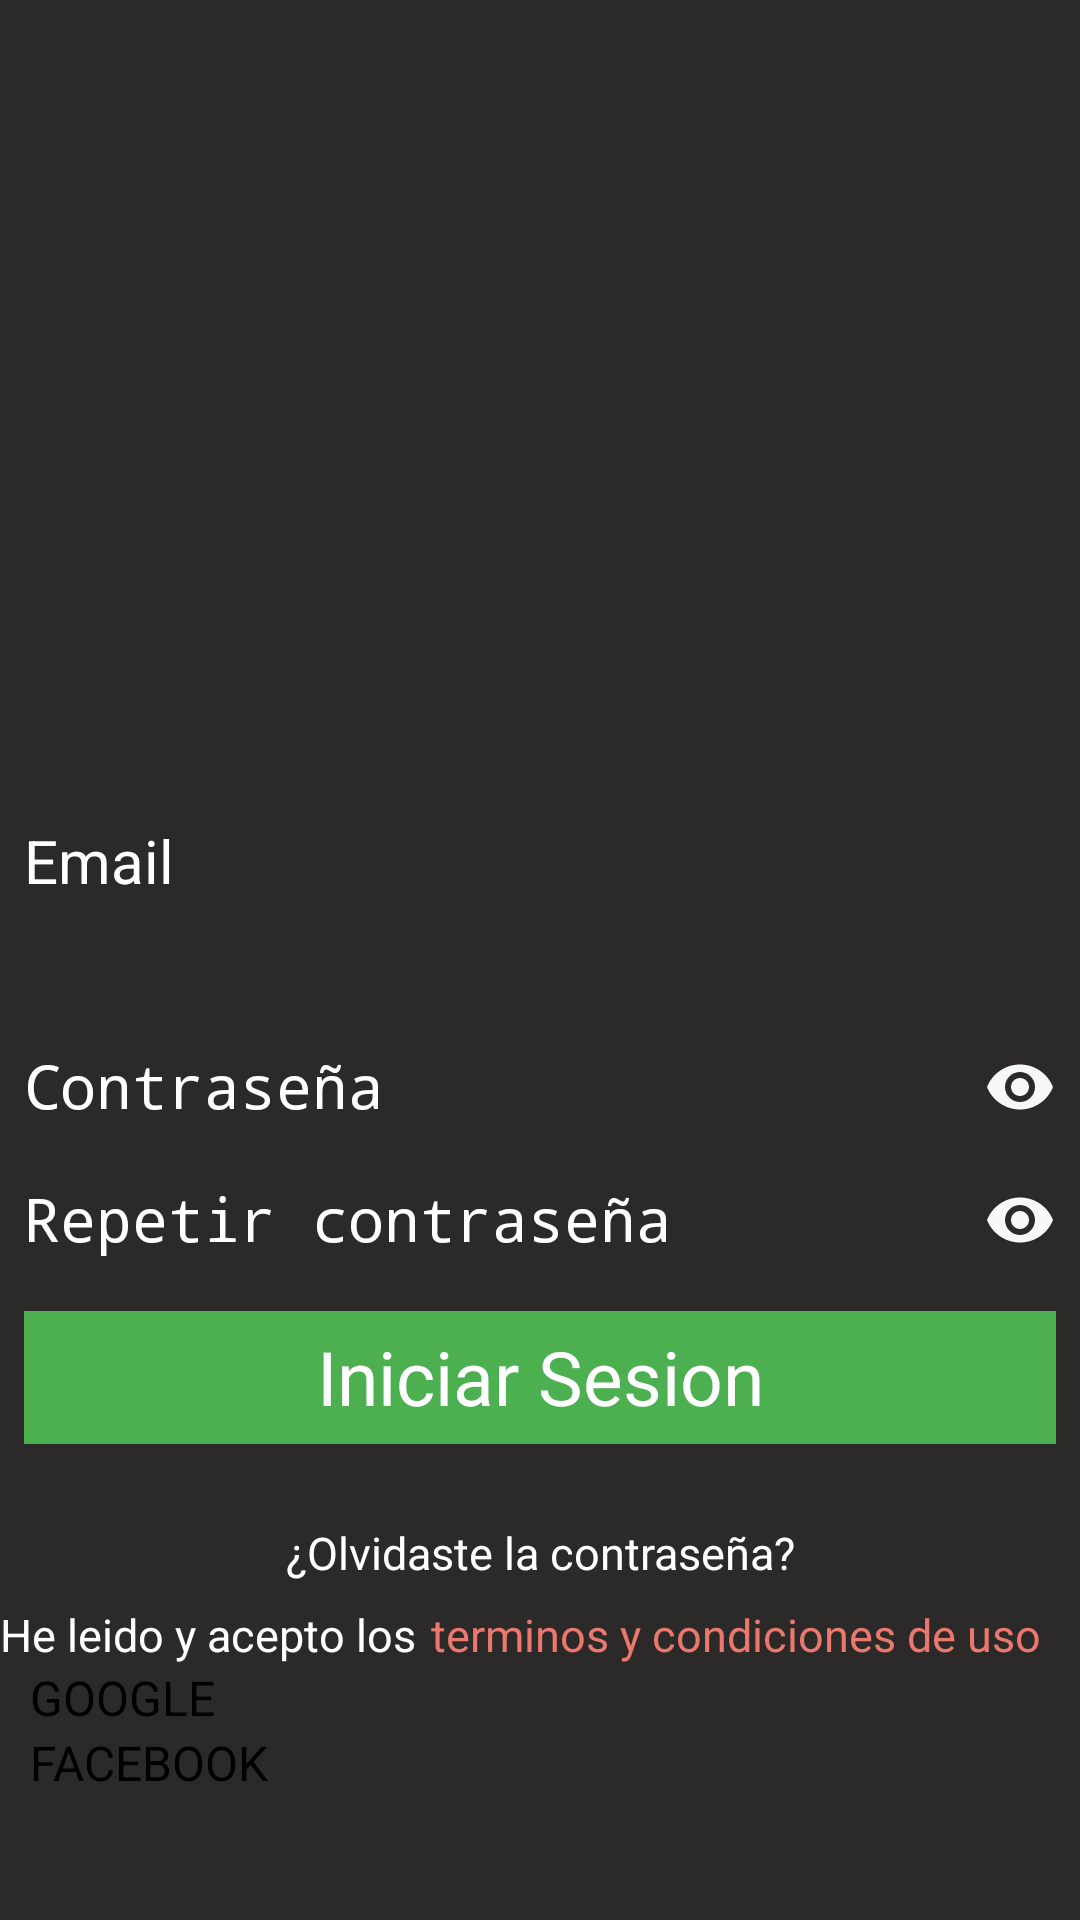

Named icons in this screenshot (1080px x 1920px) and their bounding boxes, (x1, y1, x2, y2):
password eye: (987, 1064, 1053, 1110), (987, 1197, 1053, 1243)
